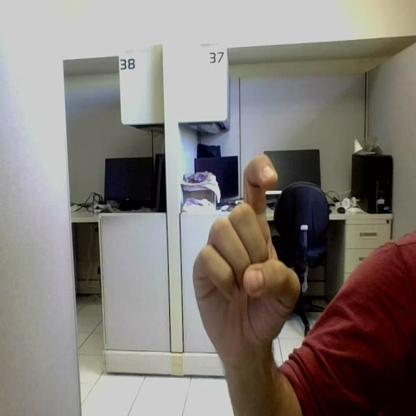X: (194, 155, 301, 337)
